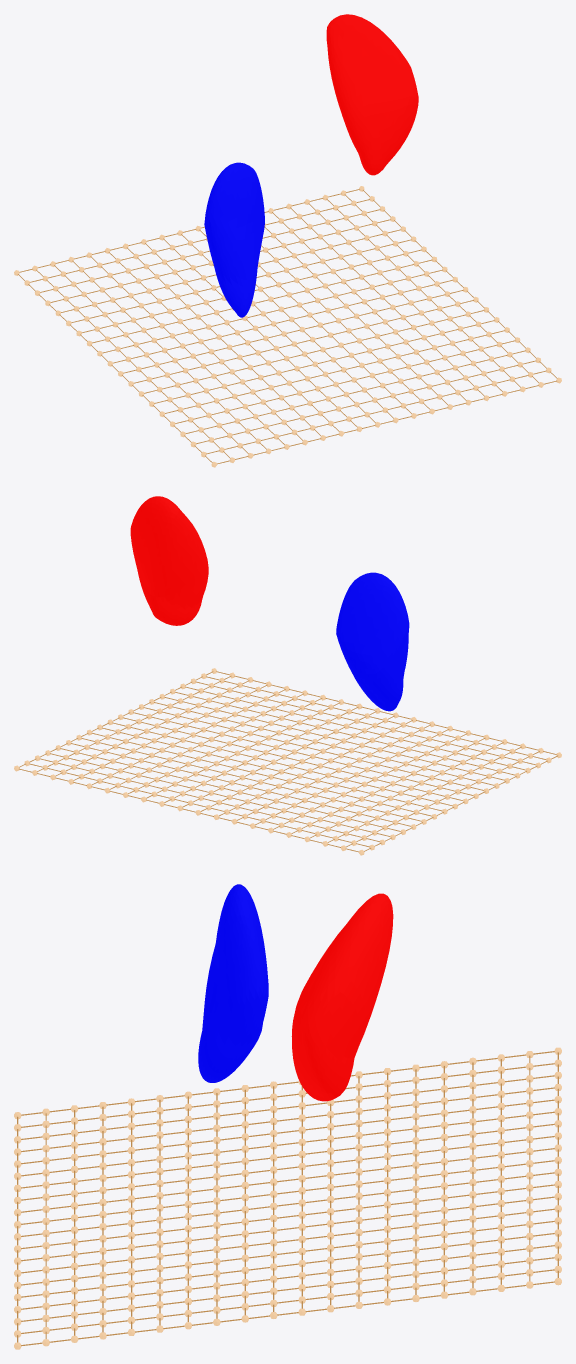
Rendered from twoStones.glb.
3 renders of one model, top to bottom at view 1: azimuth 30°, elevation 25°; view 2: azimuth 150°, elevation 25°; view 3: azimuth 270°, elevation 25°, orthographic. The views are drawn at different scales.
Size of the model in its own units: 5.07 by 4.03 by 5.03.
